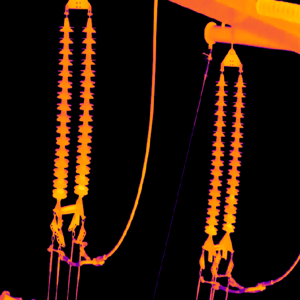insulator: (50, 15, 95, 201), (219, 69, 251, 238), (202, 70, 225, 238)
